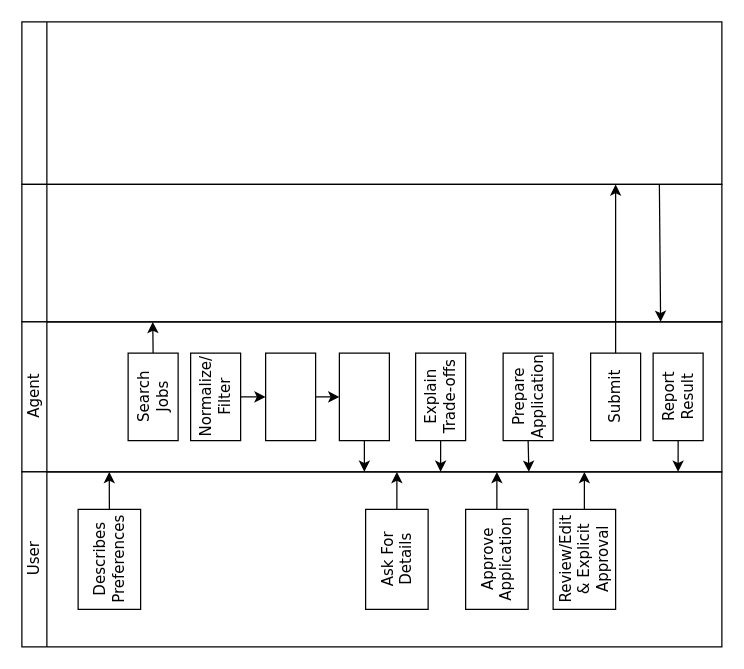
This 744x669 diagram has some shape labels left out. The shapes that lost their labels are listed below. From the top down, each one's centre as x and y in pixels, then its label:
the point at 371,102: Application System
the point at 371,252: Job Sources
the point at 290,396: Evaluate Match
the point at 363,396: Notify Match
